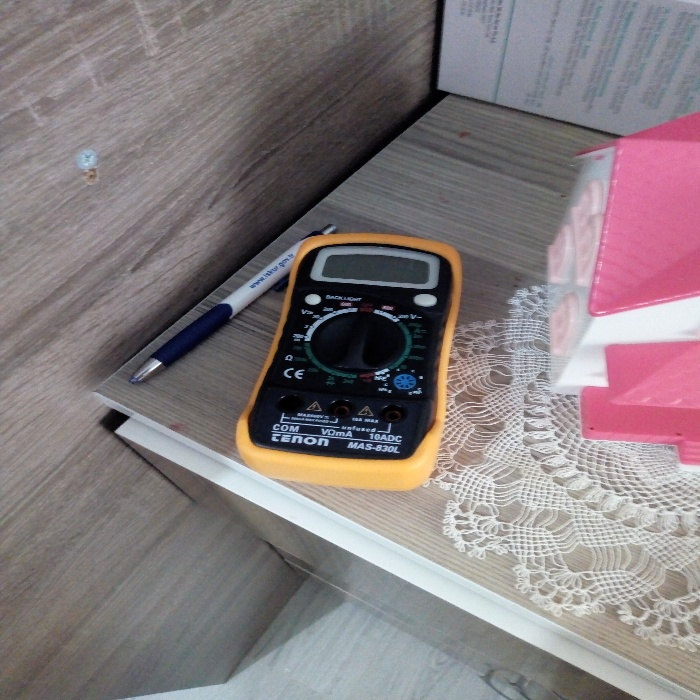multimetre: (236, 203, 480, 484)
